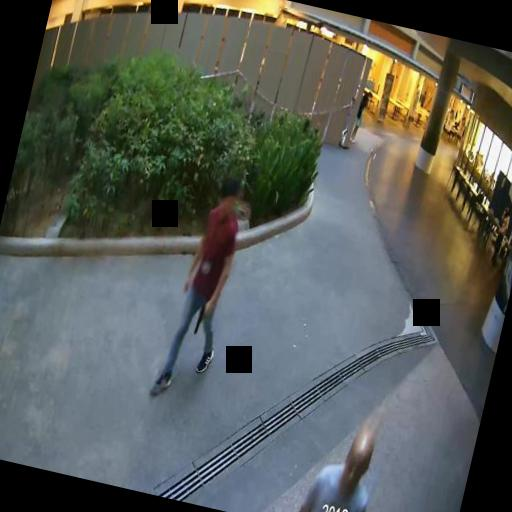Handgun: (192, 300, 212, 334)
